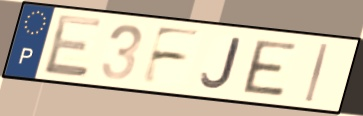3: (99, 22, 145, 82)
E: (41, 12, 105, 79), (241, 38, 300, 100)
F: (138, 24, 205, 87)
I: (302, 42, 331, 105)
J: (199, 36, 243, 91)
